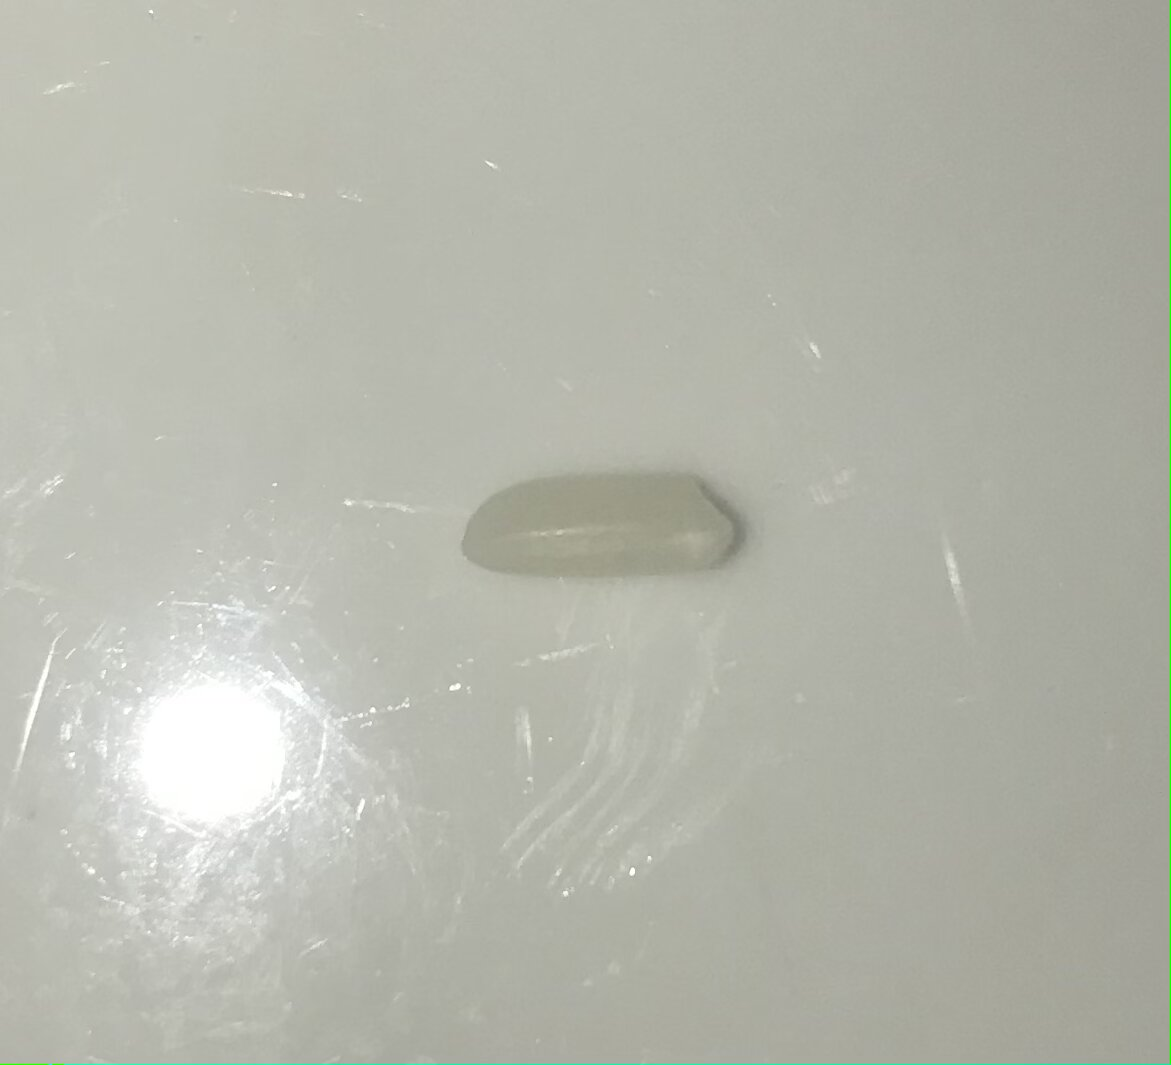Gao Lai Sua: (464, 457, 748, 584)
